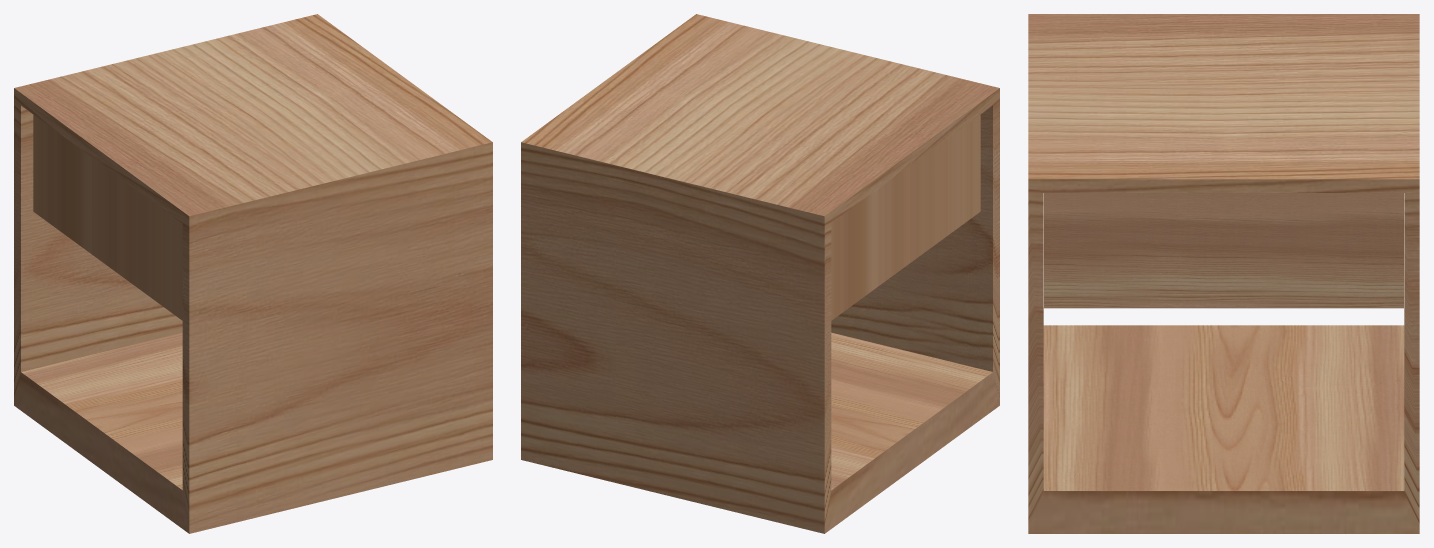
The model's file is nightstand-cube-1.glb.
The picture shows the model from 3 angles, left to right: view 1: azimuth 30°, elevation 25°; view 2: azimuth 150°, elevation 25°; view 3: azimuth 270°, elevation 25°; orthographic projection. The views are drawn at different scales.
Parts seen in each view (by area): view 1: Cube.012; view 2: Cube.012; view 3: Cube.012.
Boxes of the visible parts, bbox=[...] form: Cube.012: bbox=[14, 14, 492, 533]; Cube.012: bbox=[521, 14, 999, 533]; Cube.012: bbox=[1028, 14, 1419, 533].
Bounding box in the file's own units: 0.6397 × 0.6397 × 0.6397.
1 material, 1 textured.
